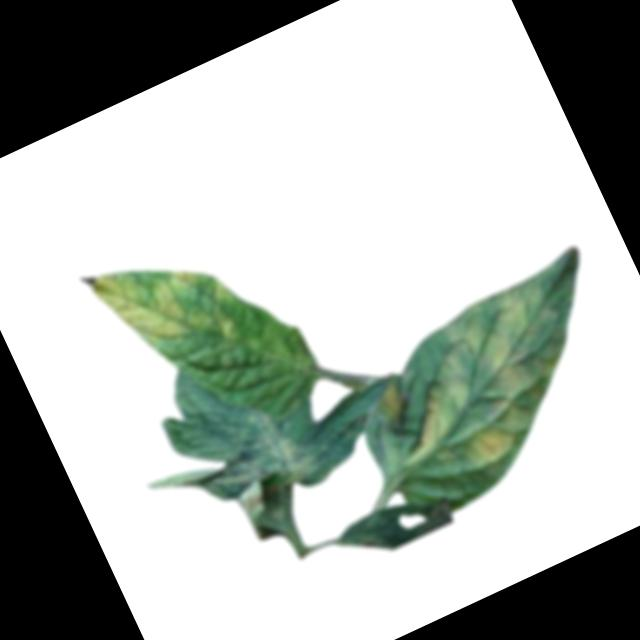Leaf_Mold: (358, 271, 615, 513), (87, 226, 250, 385), (190, 396, 322, 519)
